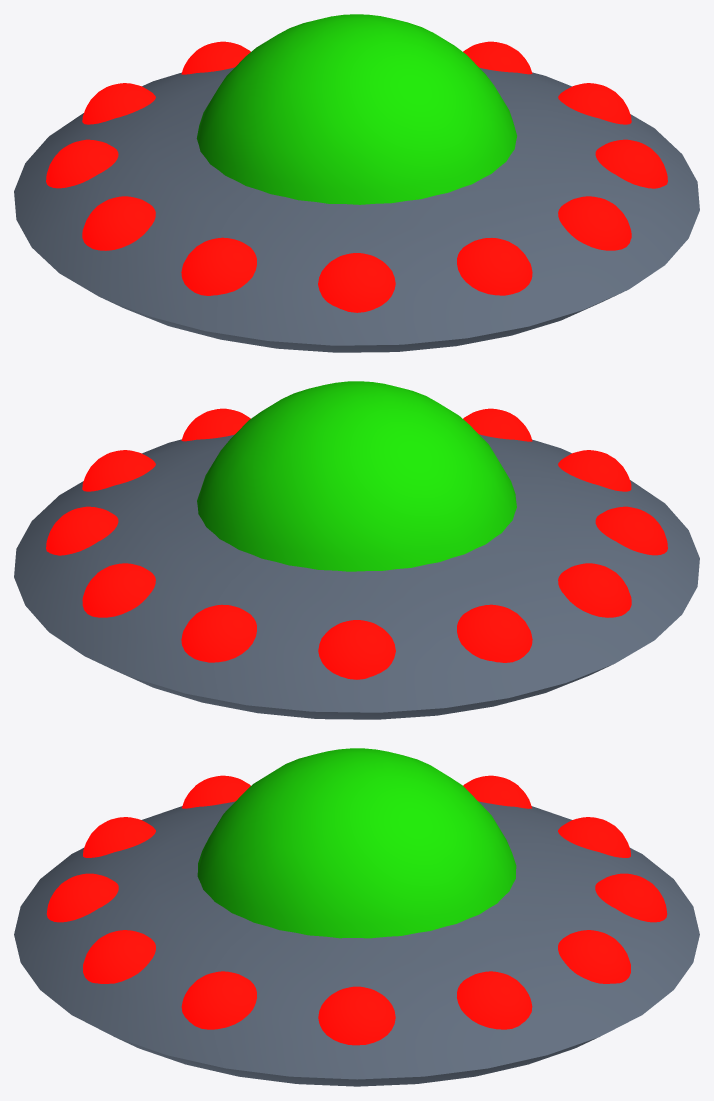
File: alien.gltf
The picture shows the model from 3 angles, top to bottom: view 1: azimuth 30°, elevation 25°; view 2: azimuth 150°, elevation 25°; view 3: azimuth 270°, elevation 25°; orthographic projection.
Parts seen in each view (by area): view 1: UFOCenter, UFODome; view 2: UFOCenter, UFODome; view 3: UFOCenter, UFODome.
Part boxes in pixels (x1,y1,x2,y2): UFOCenter: [14, 41, 699, 352]; UFODome: [196, 14, 516, 204]; UFOCenter: [14, 408, 699, 719]; UFODome: [197, 381, 516, 571]; UFOCenter: [14, 775, 699, 1086]; UFODome: [197, 748, 516, 938].
Bounding box in the file's own units: 1.46 × 0.6288 × 1.46.
